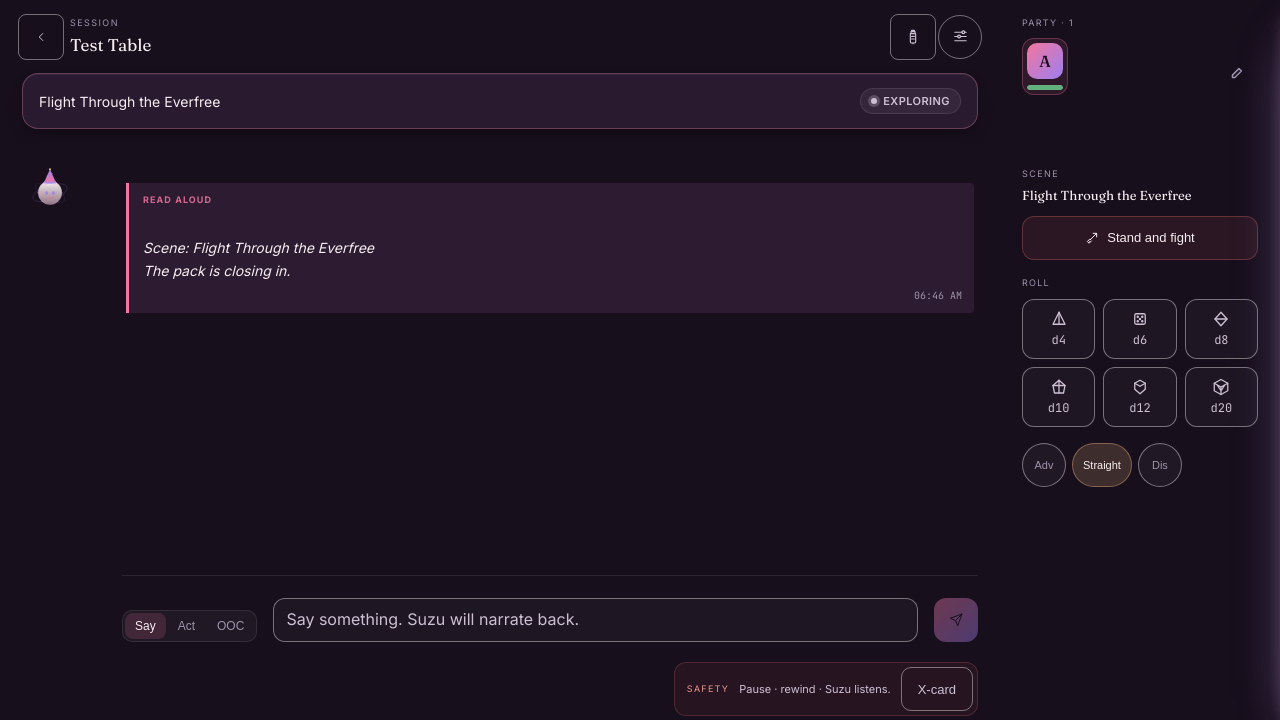
it: TAVERN PLAY-UI NITS (a)+(b) — begin-combat button render gate + busy-disabled › (3) encounter present + narration in flight (talking) disables the button
Expected: the text "Test Table" is shown, [70,32,151,57]
Expected: the button "Stand and fight" is enabled, [1022,216,1258,260]
Type "I ready myself." into the text box. click: (596, 620)
box: [273,598,918,642]
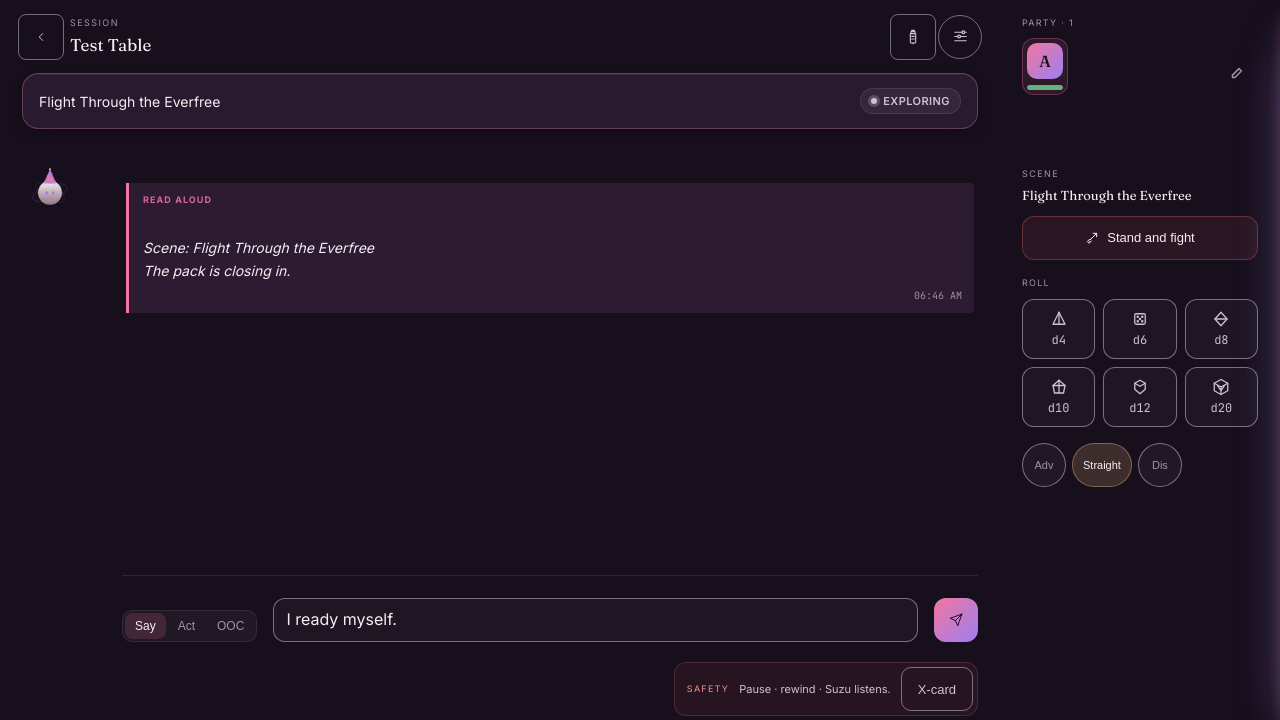
Press Enter in the text box, box [273,598,918,642]
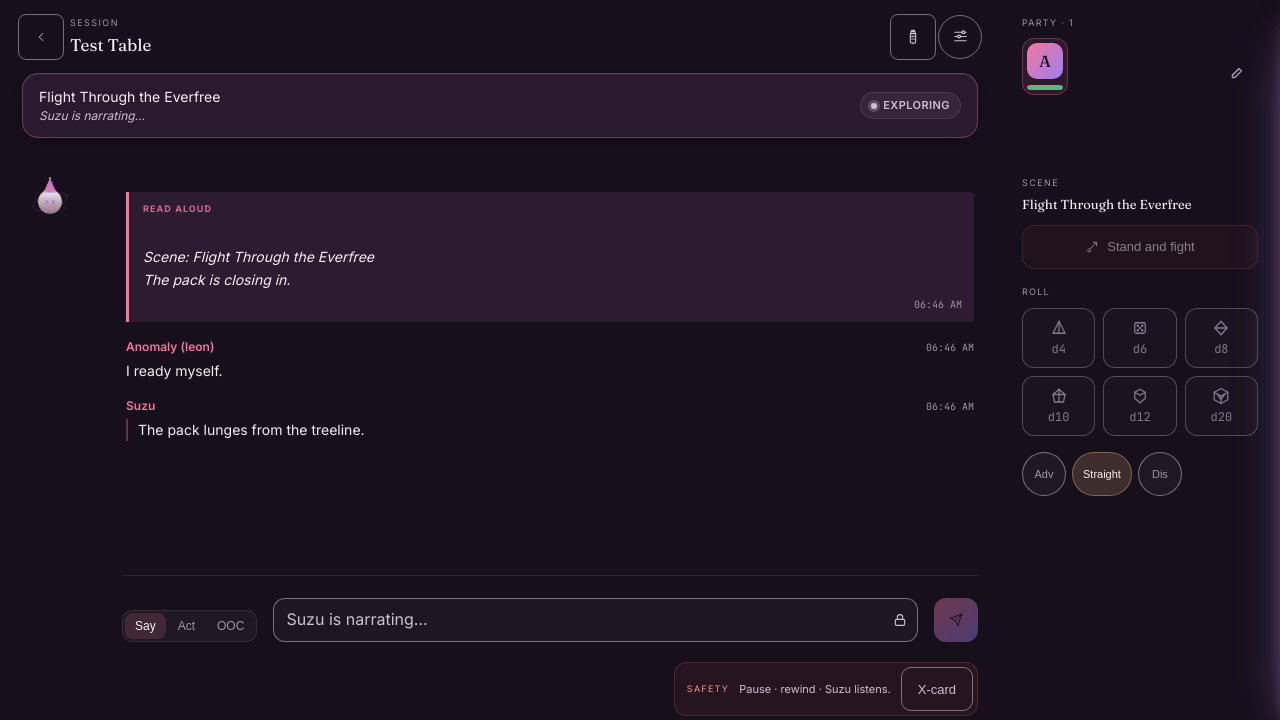
Now the button "Stand and fight" is disabled, box [1022,224,1258,268]
